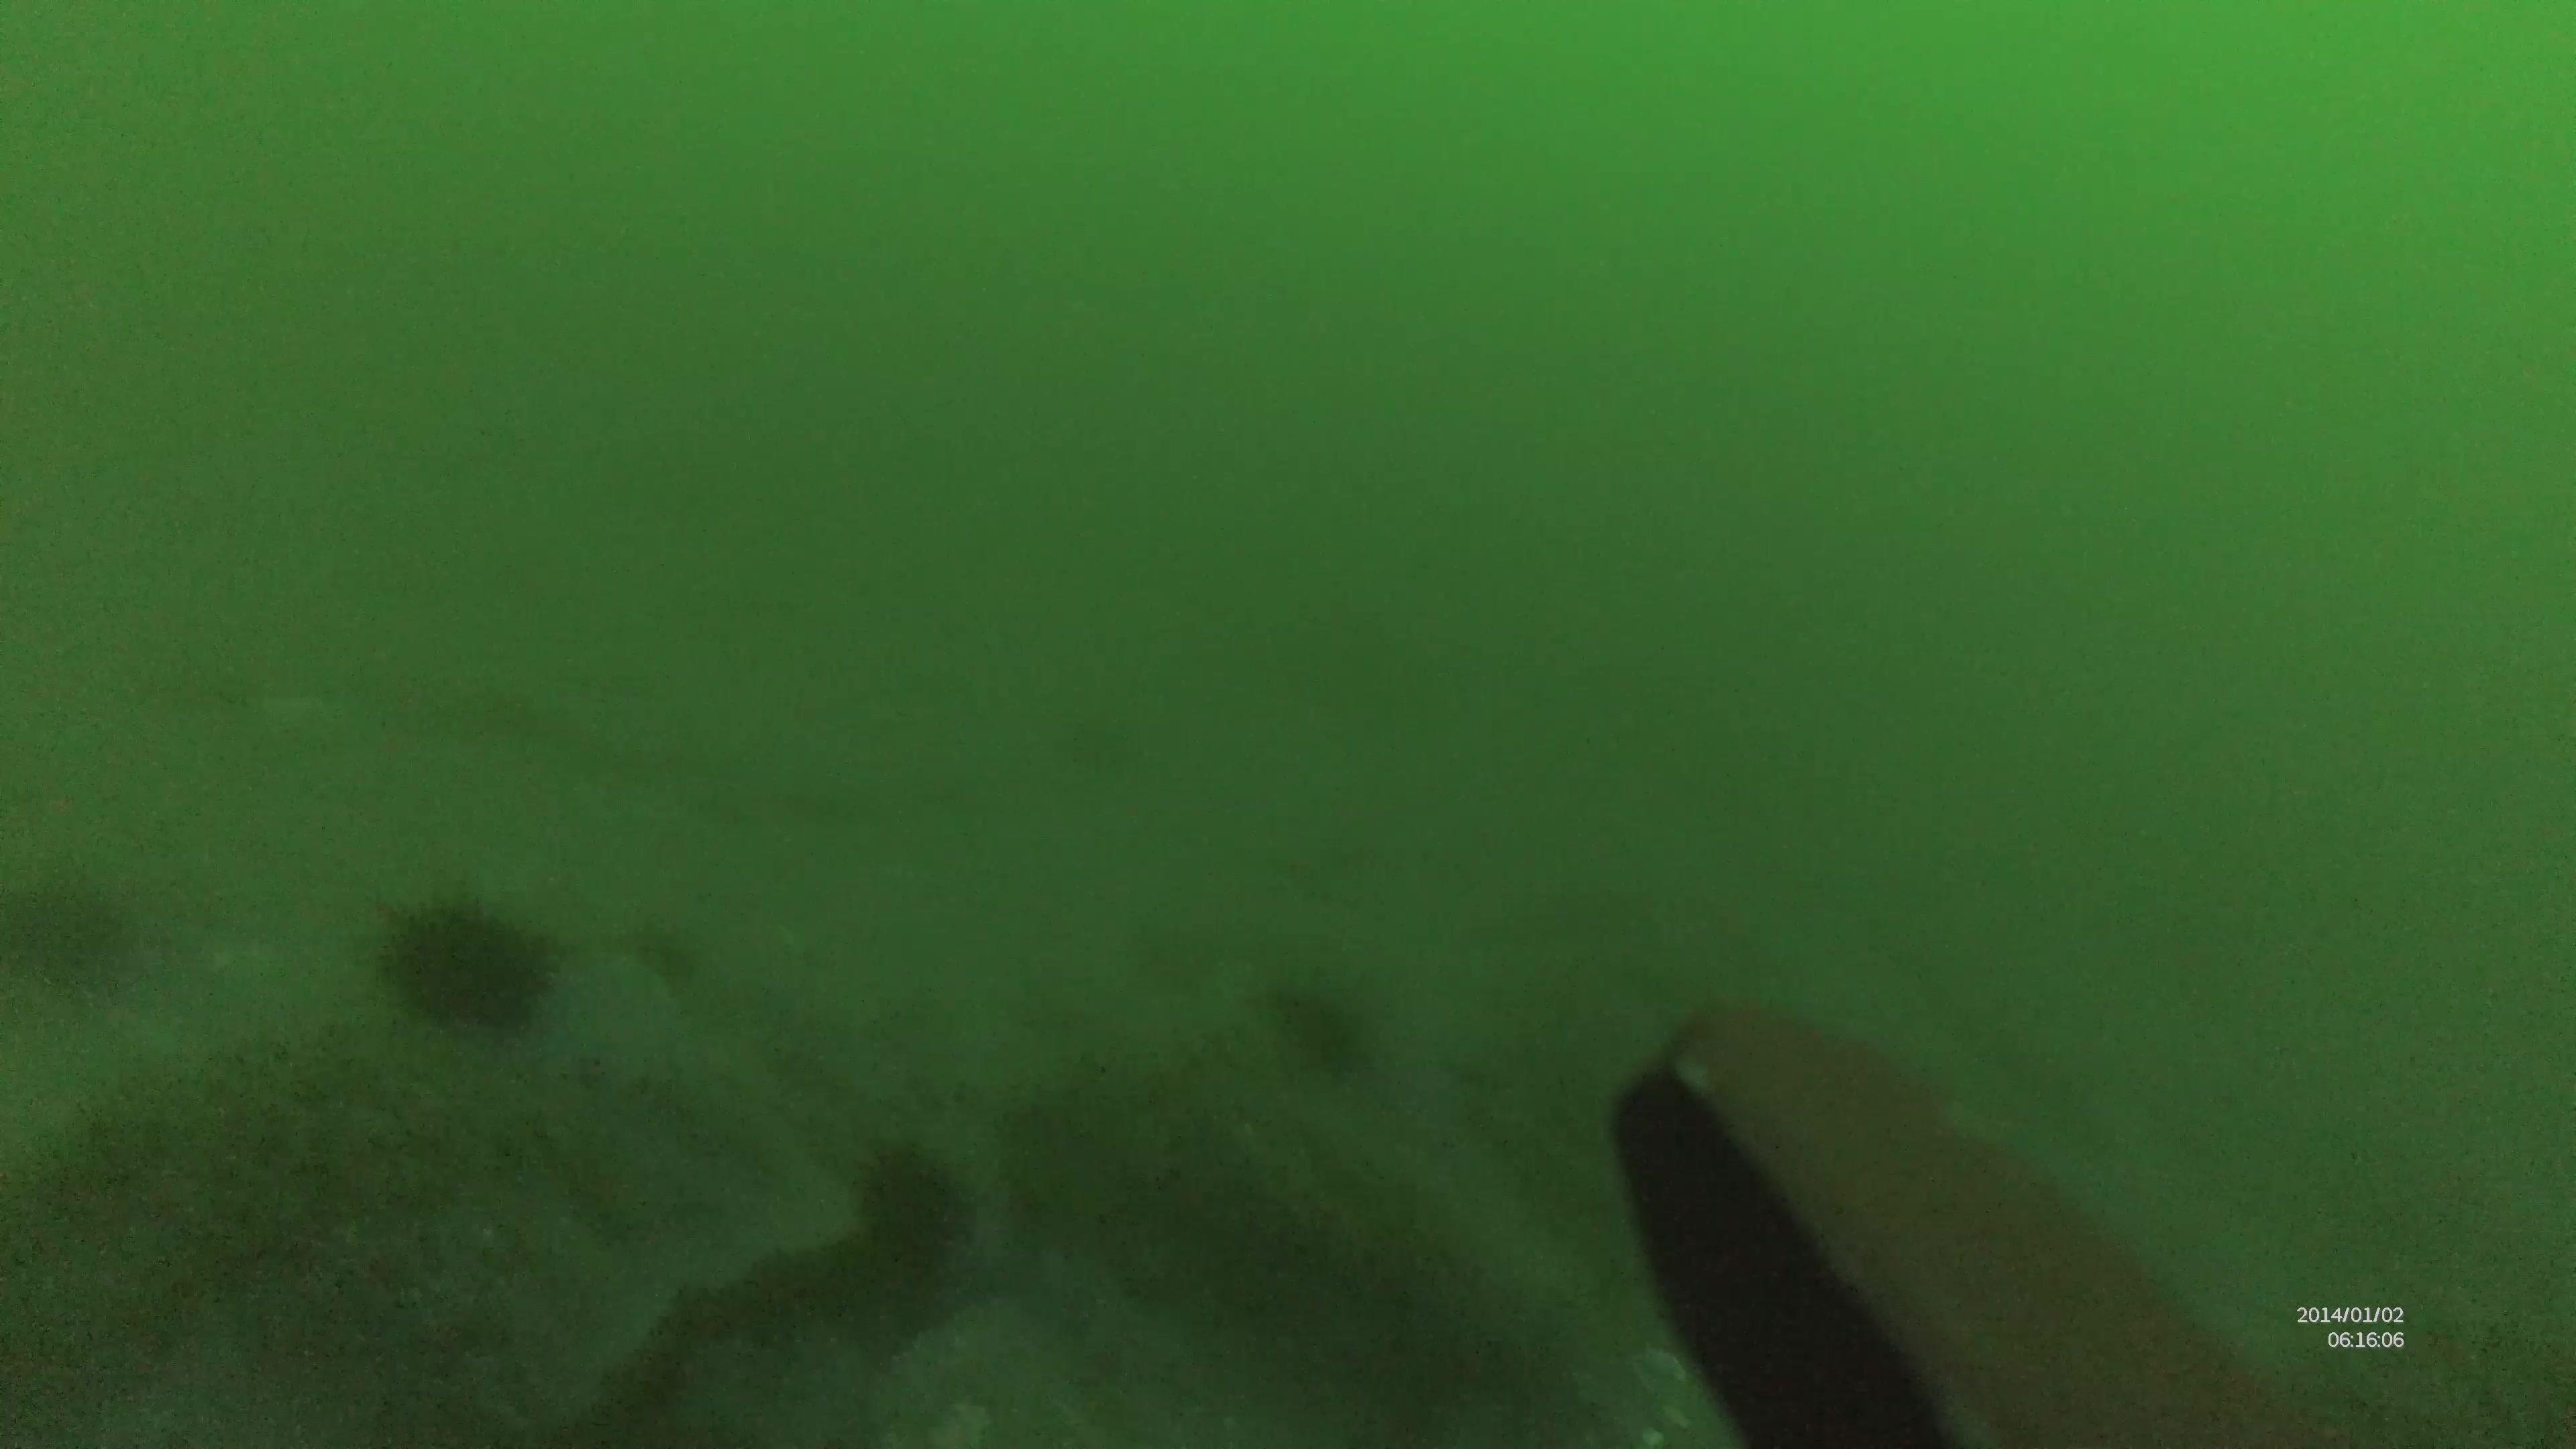echinus: (391, 899, 545, 1031), (846, 1148, 985, 1272), (1254, 982, 1384, 1081)
